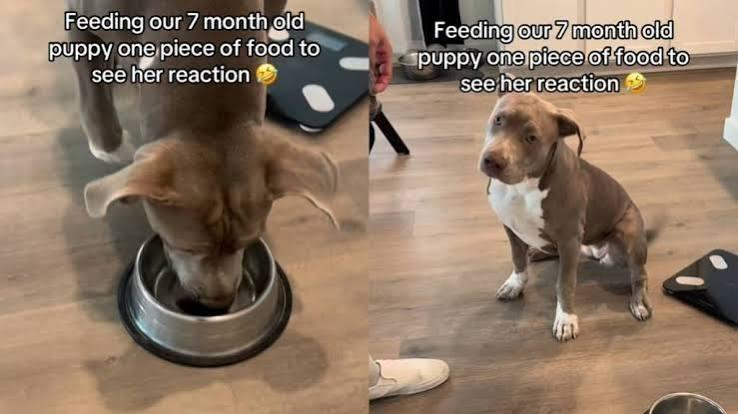puppy-dog: (67, 0, 341, 314), (475, 88, 657, 343)
